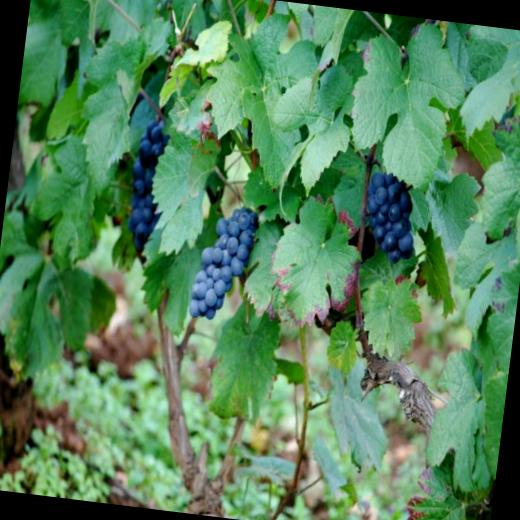Orange: (188, 199, 260, 324), (122, 116, 170, 253), (358, 167, 420, 266)
